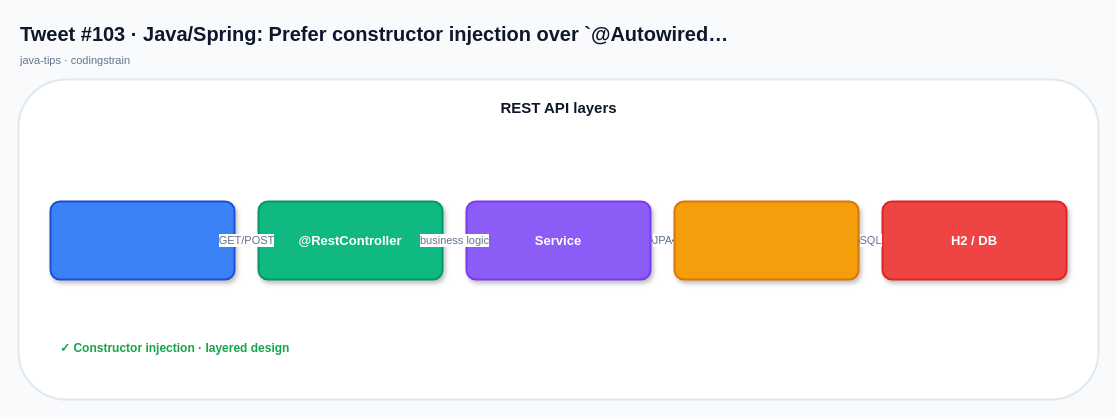
Some shapes in this 1116 by 417 pixel diagram are drawn without their labels. Here are the shapes that lost their labels. From the top down, the centre of each, then its label:
At point (143, 241): "HTTP Client".
At point (767, 241): "Repository".
